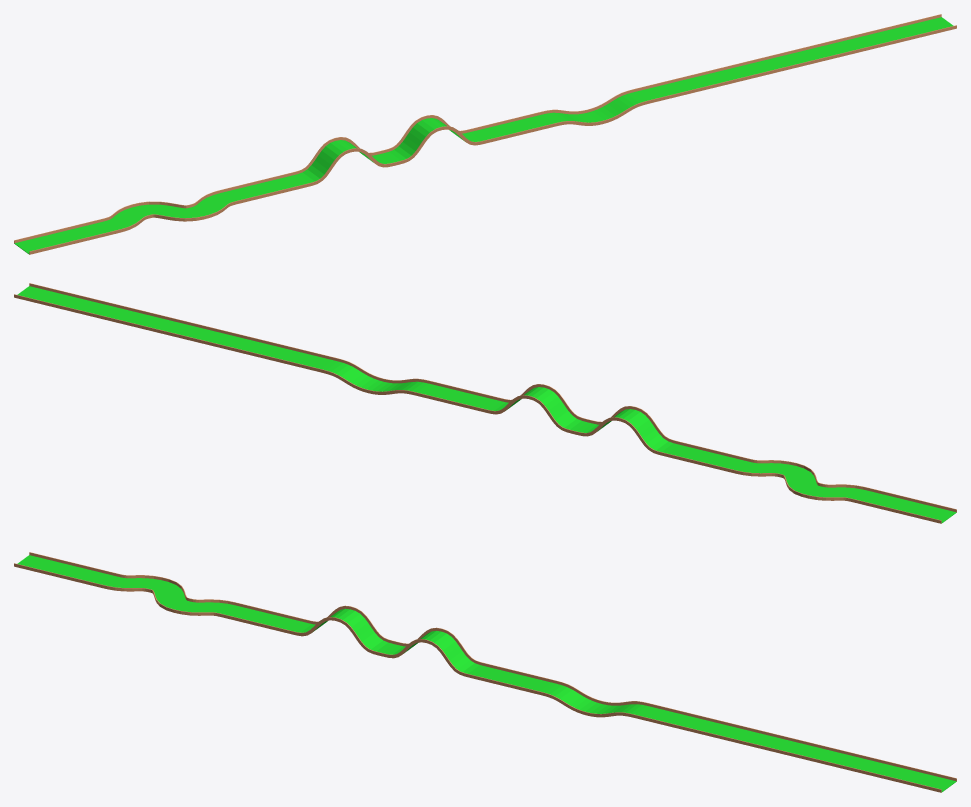
The model's file is m-golf-level.glb.
3 renders of one model, top to bottom at view 1: azimuth 30°, elevation 25°; view 2: azimuth 150°, elevation 25°; view 3: azimuth 330°, elevation 25°, orthographic.
Visible parts, largest first — view 1: Track_Visual; view 2: Track_Visual; view 3: Track_Visual.
Boxes of the visible parts, x1,y1,x2,y2 form: Track_Visual: [14, 14, 956, 254]; Track_Visual: [14, 283, 956, 523]; Track_Visual: [14, 552, 956, 792].
Size of what is drawn, in the model's own units: 72.02 by 2.71 by 4.08.
